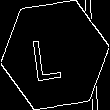L_N: (37, 28, 73, 82)
